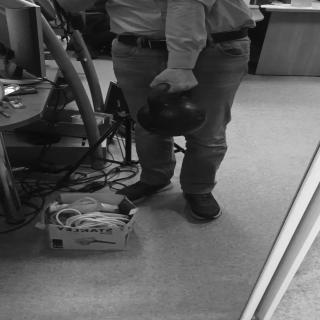girya: (136, 80, 211, 136)
